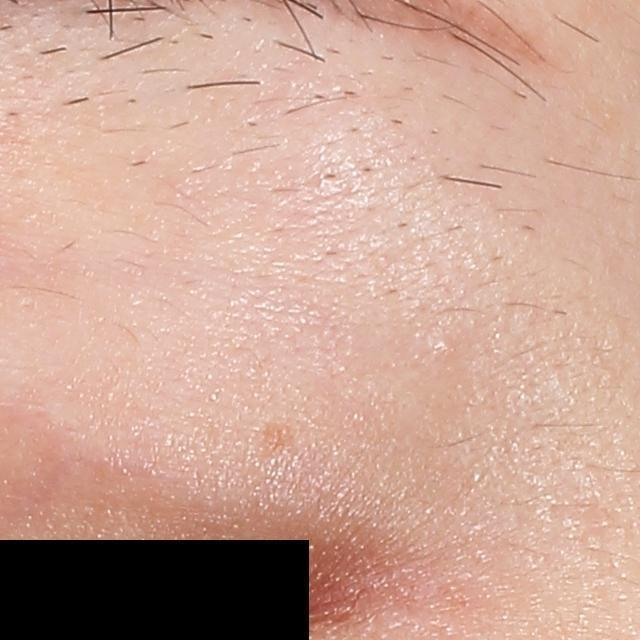comedo: (432, 336, 456, 358)
melasma: (264, 420, 303, 463)
